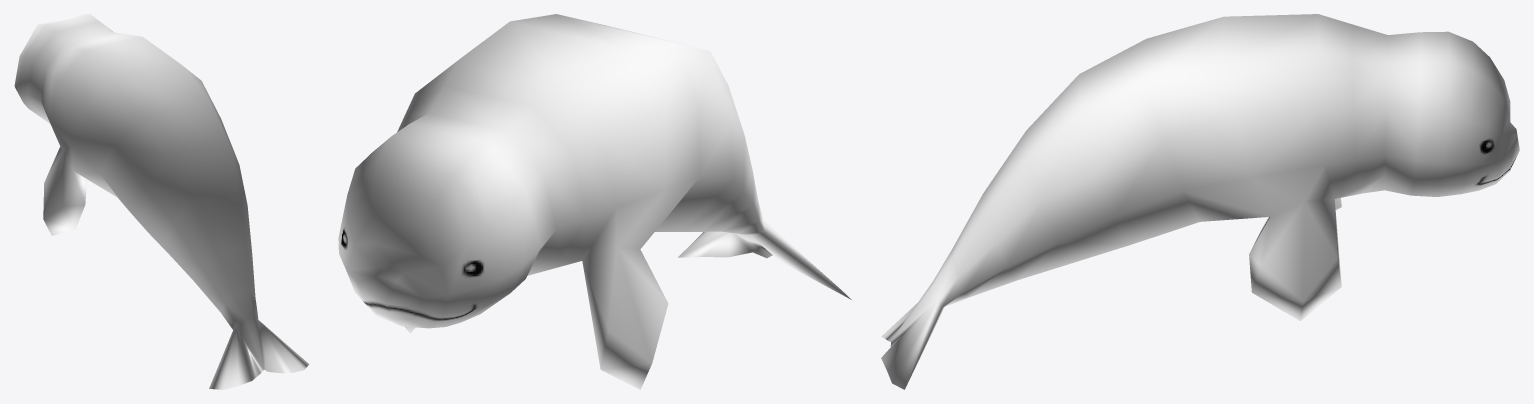
The model's file is ICON.ICO.obj.
3 views of the same model, side by side, from view 1: azimuth 30°, elevation 25°; view 2: azimuth 150°, elevation 25°; view 3: azimuth 270°, elevation 25° (orthographic). The views are drawn at different scales.
Bounding box in the file's own units: 1.77 × 2.59 × 4.67.
Materials: 1 (1 with a texture image).
